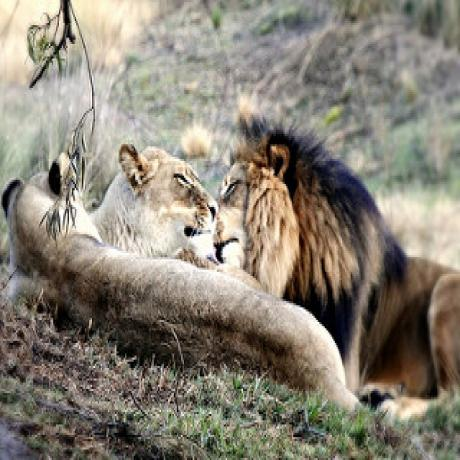Lion: (0, 144, 344, 408), (215, 97, 460, 407), (92, 128, 221, 259)
